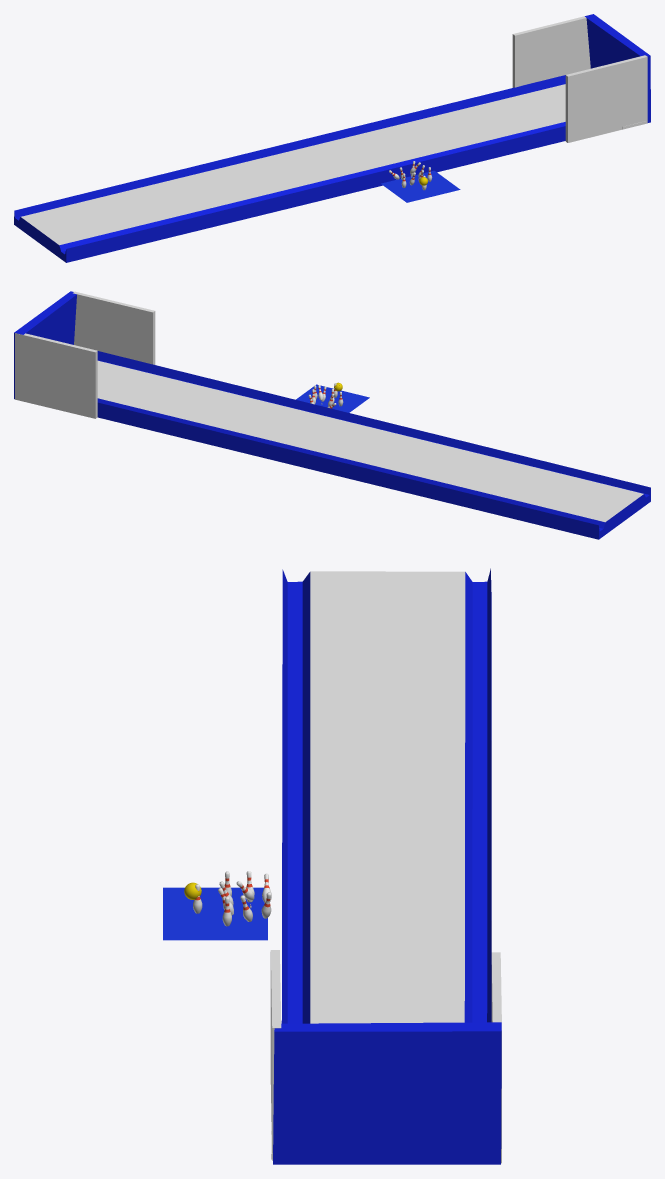
The model's file is Alley2.fbx.
3 views of the same model, one above another, from view 1: azimuth 30°, elevation 25°; view 2: azimuth 150°, elevation 25°; view 3: azimuth 270°, elevation 25° (orthographic). The views are drawn at different scales.
Visible parts, largest first — view 1: Cube, Cube.003, Cube.004, Cube.001, Ground; view 2: Cube, Cube.004, Cube.003, Cube.001, Ground; view 3: Cube, Cube.001, Ground, Cube.003, Cube.004.
Part boxes in pixels (box(x1,y1,x2,y2)): Cube: box(14, 75, 565, 262); Cube.003: box(565, 55, 647, 142); Cube.004: box(512, 16, 590, 87); Cube.001: box(585, 14, 650, 122); Ground: box(381, 170, 460, 202); Cube: box(97, 351, 650, 539); Cube.004: box(15, 333, 97, 418); Cube.003: box(73, 291, 155, 364); Cube.001: box(14, 291, 76, 399); Ground: box(296, 384, 369, 412); Cube: box(281, 568, 491, 1023); Cube.001: box(273, 1022, 501, 1164); Ground: box(163, 887, 267, 940); Cube.003: box(270, 950, 281, 1160); Cube.004: box(491, 952, 501, 1163).
Size of the model in its own units: 40804 by 4477 by 10292.
